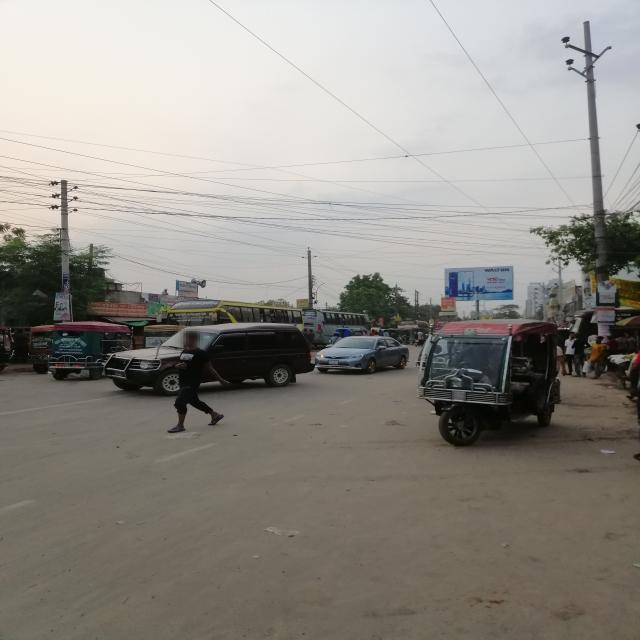Car: (313, 335, 412, 375)
Zeep: (101, 325, 314, 391)
